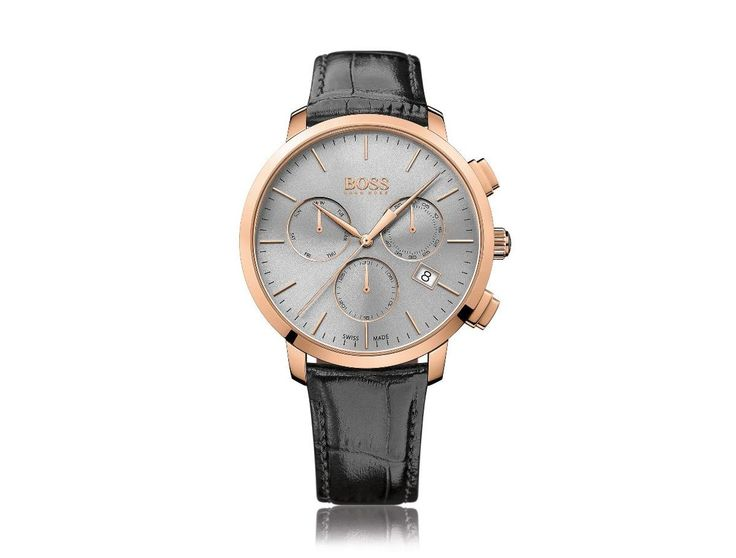clock: (236, 112, 498, 374)
